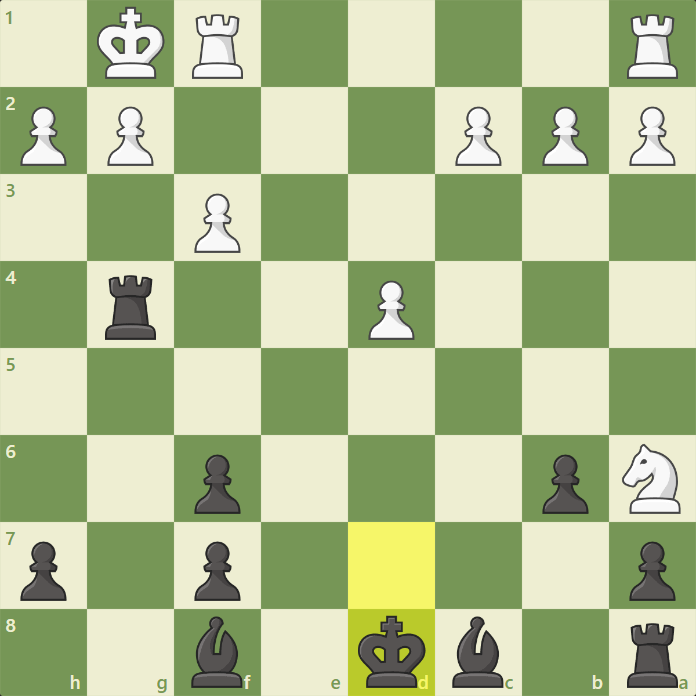K: (94, 5, 167, 81)
N: (617, 442, 684, 517)
P: (17, 104, 69, 169), (103, 103, 155, 168), (191, 190, 243, 255), (364, 277, 416, 342), (453, 103, 505, 168), (539, 104, 591, 169), (626, 104, 678, 169)
R: (188, 11, 247, 81), (624, 12, 681, 81)
b: (450, 614, 506, 691), (189, 614, 245, 690)
k: (356, 614, 428, 690)
p: (18, 538, 70, 604), (190, 538, 242, 604), (191, 451, 243, 517), (538, 451, 590, 517), (626, 537, 678, 603)
r: (623, 620, 682, 690), (102, 272, 159, 343)
